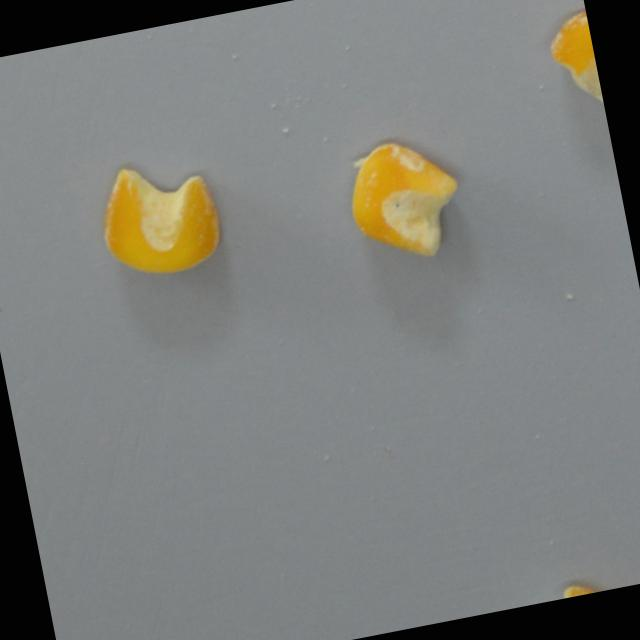pelicula: (90, 152, 227, 285), (542, 6, 608, 133)
punto_negro: (340, 131, 470, 270)
